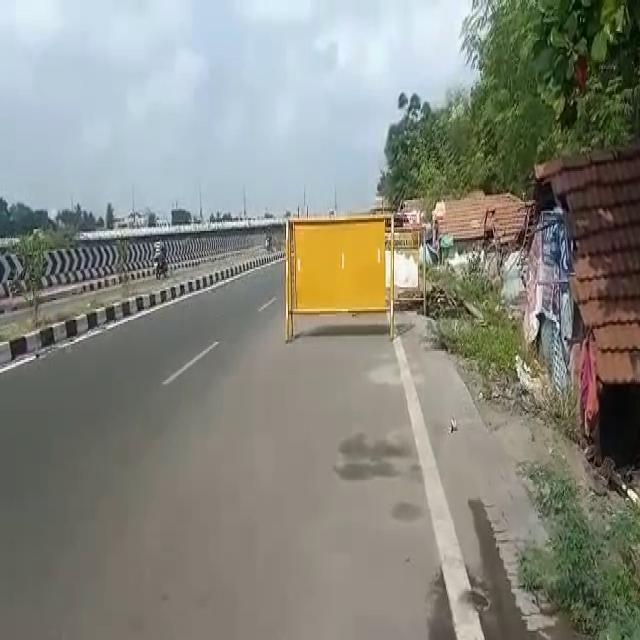fallen_object: (266, 193, 421, 356)
